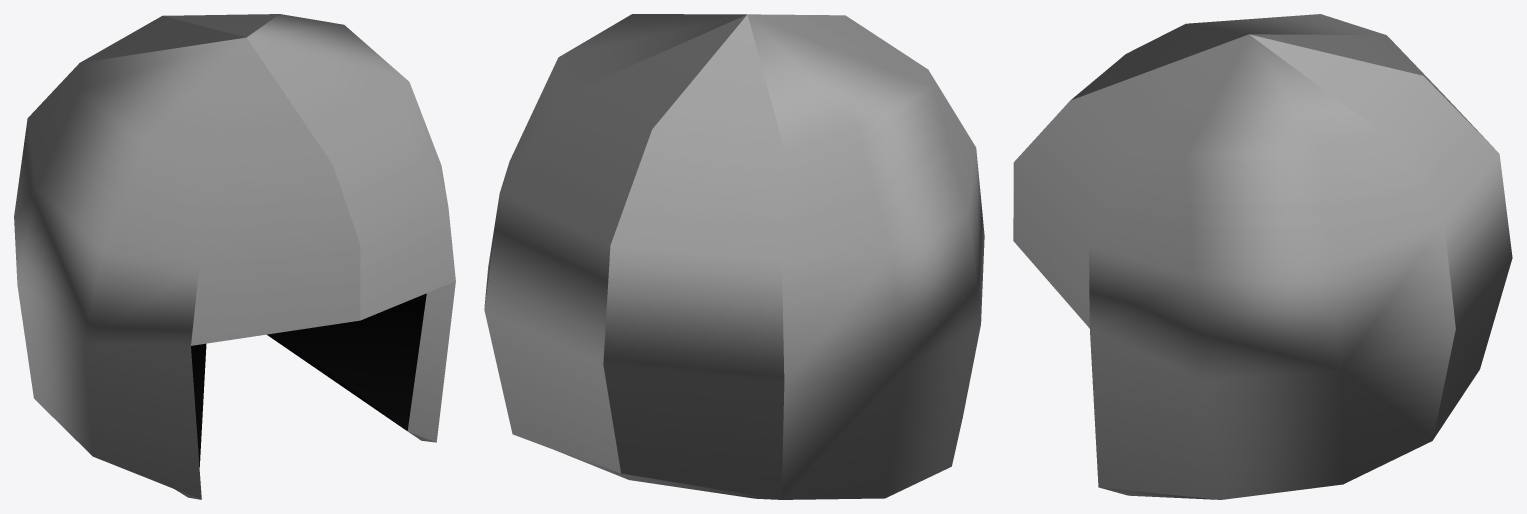
File: SkullCap.glb
3 renders of one model, left to right at view 1: azimuth 30°, elevation 25°; view 2: azimuth 150°, elevation 25°; view 3: azimuth 270°, elevation 25°, orthographic. The views are drawn at different scales.
Visible parts, largest first — view 1: SkullCap; view 2: SkullCap; view 3: SkullCap.
Part boxes in pixels (bbox=[...]): SkullCap: bbox=[14, 14, 455, 499]; SkullCap: bbox=[484, 14, 984, 499]; SkullCap: bbox=[1013, 14, 1512, 499].
Size of the model in its own units: 0.272 by 0.274 by 0.308.
1 material, 1 textured.
